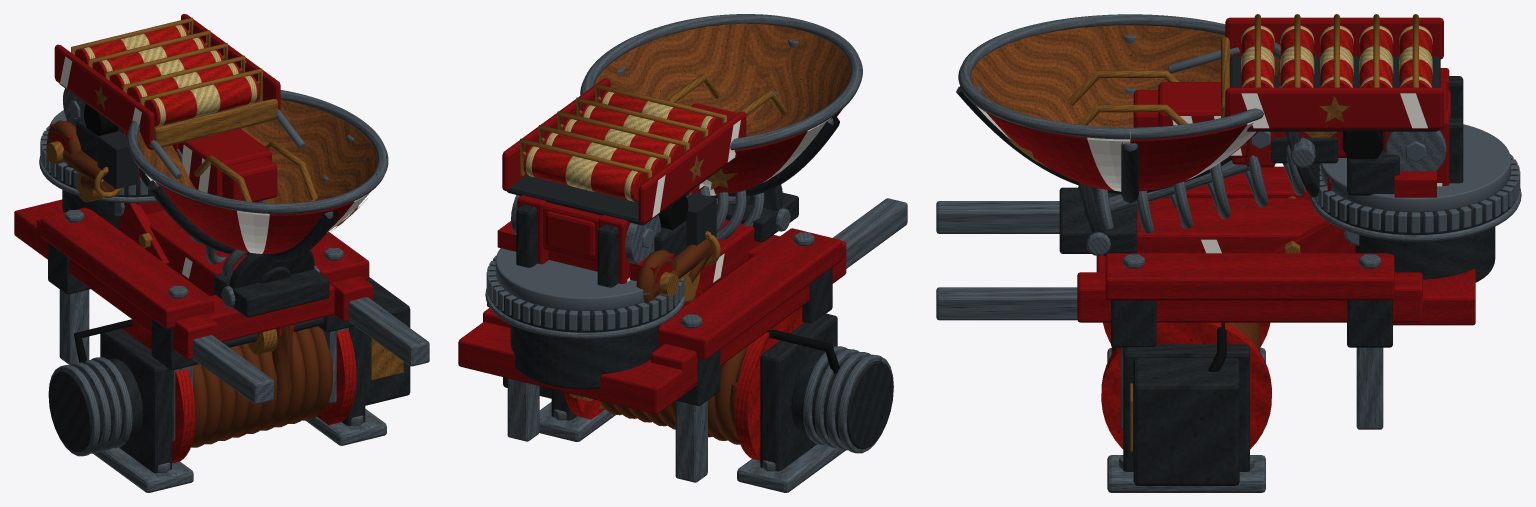
Rendered from SalvoCatapult.glb.
The picture shows the model from 3 angles, left to right: view 1: azimuth 30°, elevation 25°; view 2: azimuth 150°, elevation 25°; view 3: azimuth 270°, elevation 25°; orthographic projection. The views are drawn at different scales.
Visible parts, largest first — view 1: ArmTip_Surfaces, WinchHousing_Surfaces, FixedMount_Surfaces, WinchDrum_Surfaces, PlatformGuides_Surfaces, Magazine_Surfaces, TurretSlide_Surfaces, SpoonHinge_Surfaces, PlateHinge_Surfaces, SupportExtension_Surfaces, Round_4_Surfaces, escapement stop (+12 smaller); view 2: ArmTip_Surfaces, WinchHousing_Surfaces, TurretSlide_Surfaces, Magazine_Surfaces, FixedMount_Surfaces, TurretYaw_Surfaces, PlatformGuides_Surfaces, WinchDrum_Surfaces, HingeCarriage_Surfaces, Round_0_Surfaces, SpoonHinge_Surfaces, ArmMiddle_Surfaces (+9 smaller); view 3: ArmTip_Surfaces, WinchHousing_Surfaces, FixedMount_Surfaces, TurretSlide_Surfaces, Magazine_Surfaces, TurretYaw_Surfaces, PlatformGuides_Surfaces, PlateHinge_Surfaces, HingeCarriage_Surfaces, WinchDrum_Surfaces, SpoonHinge_Surfaces, SupportExtension_Surfaces (+10 smaller).
Part boxes in pixels (bbox=[...]): ArmTip_Surfaces: bbox=[46, 90, 388, 261]; WinchHousing_Surfaces: bbox=[48, 277, 410, 492]; FixedMount_Surfaces: bbox=[40, 207, 369, 370]; WinchDrum_Surfaces: bbox=[122, 319, 356, 463]; PlatformGuides_Surfaces: bbox=[36, 219, 373, 441]; Magazine_Surfaces: bbox=[54, 14, 305, 178]; TurretSlide_Surfaces: bbox=[14, 156, 429, 404]; SpoonHinge_Surfaces: bbox=[94, 128, 271, 198]; PlateHinge_Surfaces: bbox=[119, 203, 246, 296]; SupportExtension_Surfaces: bbox=[214, 266, 329, 317]; Round_4_Surfaces: bbox=[144, 75, 262, 126]; escapement stop: bbox=[154, 98, 277, 147]; ArmTip_Surfaces: bbox=[497, 14, 862, 302]; WinchHousing_Surfaces: bbox=[503, 313, 893, 492]; TurretSlide_Surfaces: bbox=[458, 198, 907, 414]; Magazine_Surfaces: bbox=[502, 78, 746, 225]; FixedMount_Surfaces: bbox=[487, 228, 842, 405]; TurretYaw_Surfaces: bbox=[486, 195, 700, 332]; PlatformGuides_Surfaces: bbox=[483, 235, 846, 482]; WinchDrum_Surfaces: bbox=[563, 306, 804, 460]; HingeCarriage_Surfaces: bbox=[511, 195, 688, 287]; Round_0_Surfaces: bbox=[522, 146, 647, 201]; SpoonHinge_Surfaces: bbox=[543, 117, 730, 265]; ArmMiddle_Surfaces: bbox=[546, 103, 736, 257]; ArmTip_Surfaces: bbox=[956, 14, 1436, 203]; WinchHousing_Surfaces: bbox=[1107, 322, 1265, 492]; FixedMount_Surfaces: bbox=[1105, 166, 1394, 347]; TurretSlide_Surfaces: bbox=[936, 188, 1521, 325]; Magazine_Surfaces: bbox=[1168, 14, 1443, 131]; TurretYaw_Surfaces: bbox=[1314, 68, 1520, 245]; PlatformGuides_Surfaces: bbox=[1077, 187, 1422, 429]; PlateHinge_Surfaces: bbox=[1136, 192, 1355, 253]; HingeCarriage_Surfaces: bbox=[1342, 76, 1463, 195]; WinchDrum_Surfaces: bbox=[1101, 322, 1271, 449]; SpoonHinge_Surfaces: bbox=[1158, 82, 1447, 167]; SupportExtension_Surfaces: bbox=[1059, 187, 1137, 255].
Bounding box in the file's own units: 1.19 × 1.19 × 1.66.
Materials: 10 (9 with a texture image).
